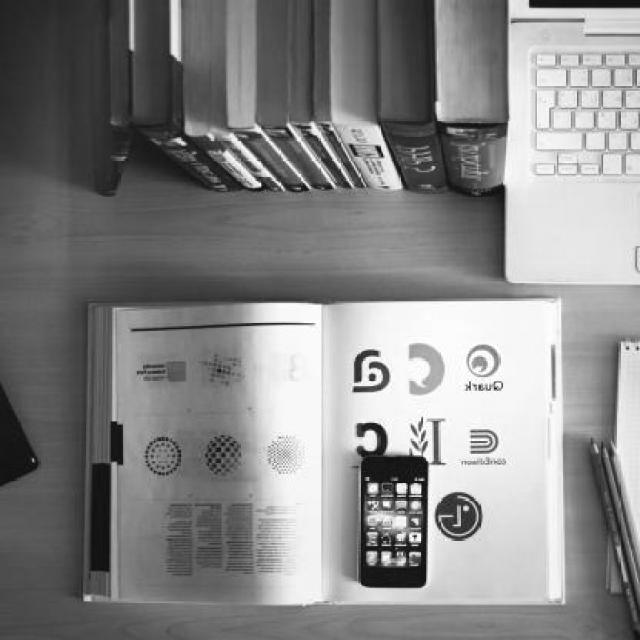fake: (354, 453, 437, 596)
